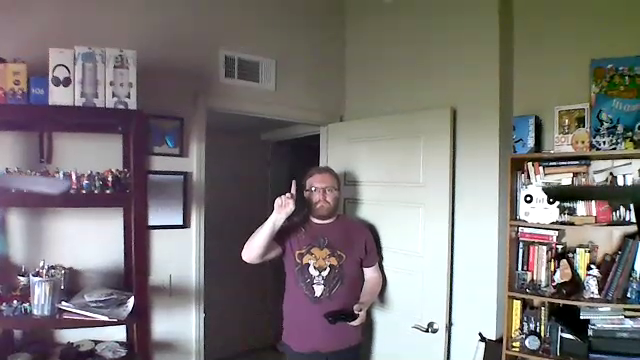up: (273, 177, 300, 218)
